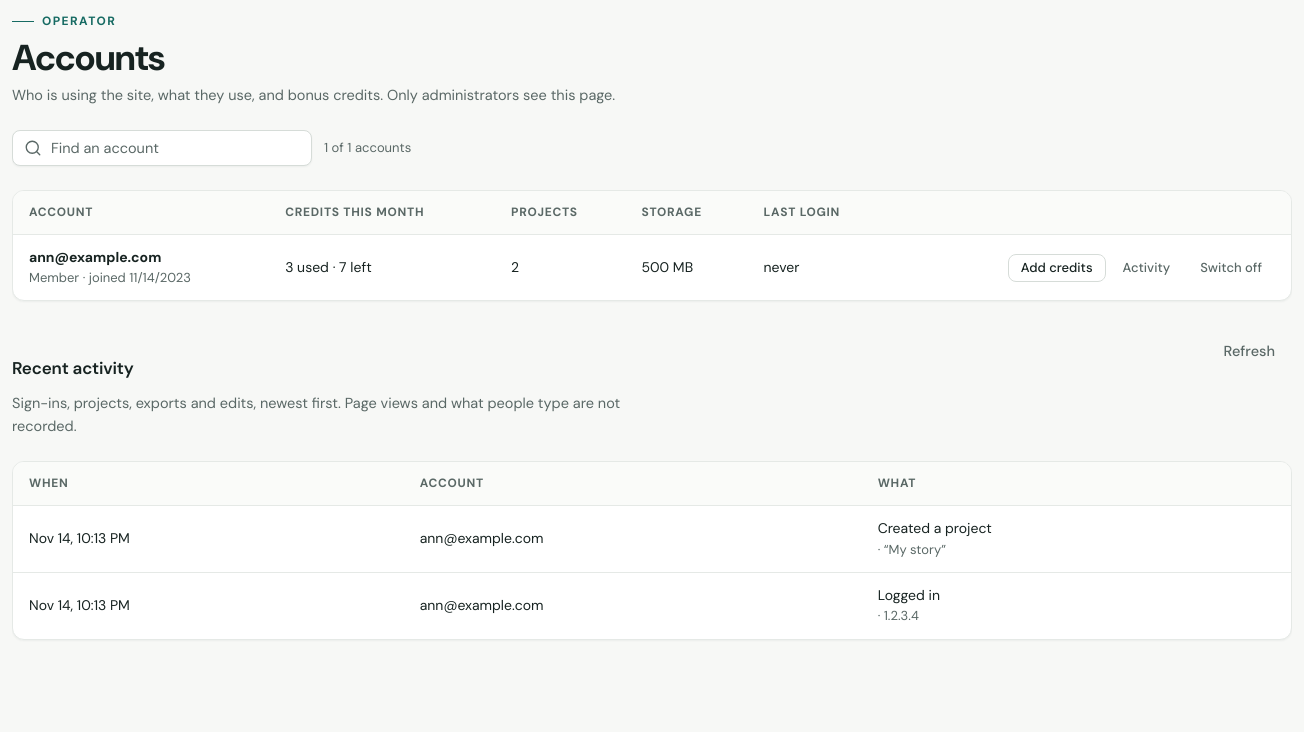
Test: AdminPage › shows what everybody did, and what one account did when asked
Expected: the table named "Activity" shows "Created a project", x1=878 y1=519 x2=992 y2=537
Expected: the table named "Activity" shows "My story", x1=888 y1=541 x2=941 y2=558
Click the button with aria-label "Show what ann@example.com did".
click(1146, 268)  # box x1=1110 y1=254 x2=1183 y2=282
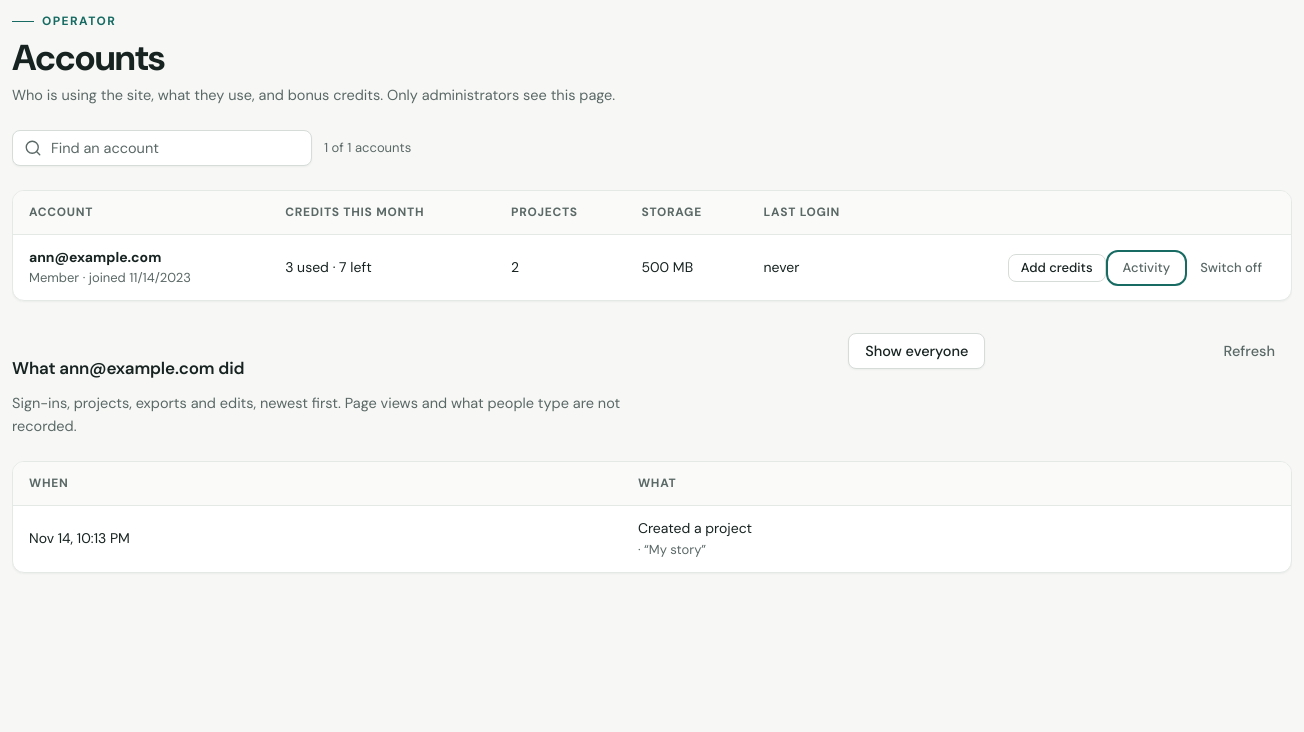
Expected: the heading "What ann@example.com did" is shown, x1=12 y1=358 x2=244 y2=380
